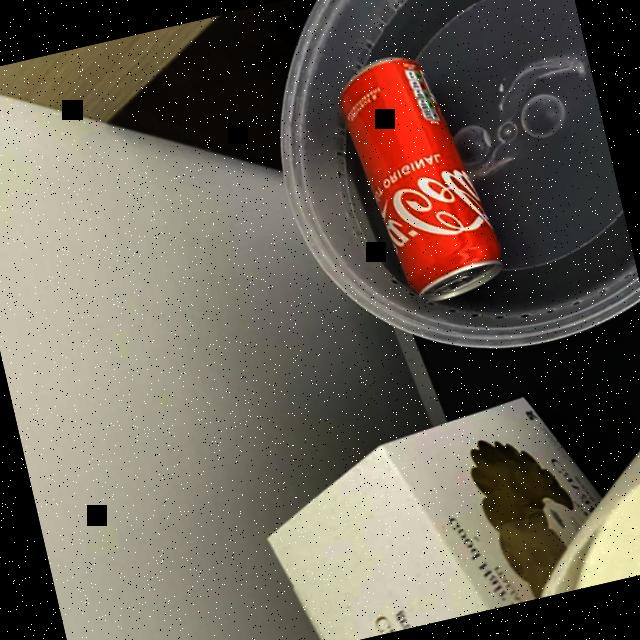can: (291, 21, 530, 345)
